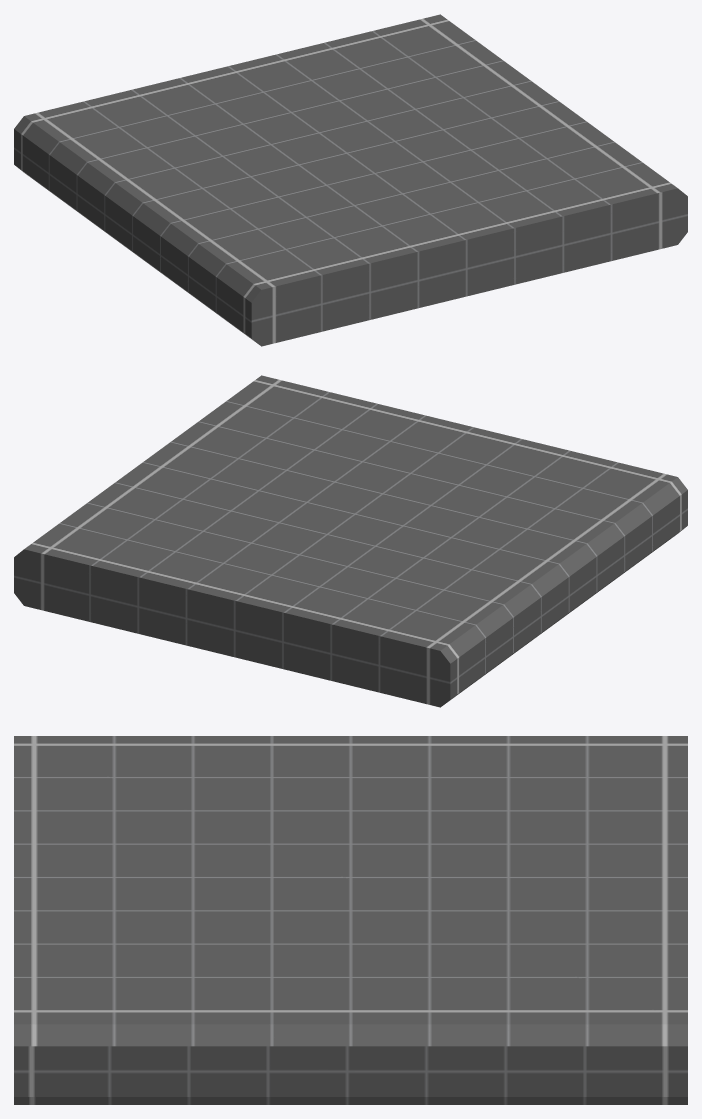
The model's file is Blueprint_Platform_1.glb.
The picture shows the model from 3 angles, top to bottom: view 1: azimuth 30°, elevation 25°; view 2: azimuth 150°, elevation 25°; view 3: azimuth 270°, elevation 25°; orthographic projection. The views are drawn at different scales.
Parts seen in each view (by area): view 1: Platform; view 2: Platform; view 3: Platform.
Part boxes in pixels (x1,y1,x2,y2): Platform: (14, 14, 687, 346); Platform: (14, 375, 687, 707); Platform: (14, 736, 687, 1104).
Bounding box in the file's own units: 0.9929 × 0.1232 × 0.936.
Materials: 1 (1 with a texture image).
